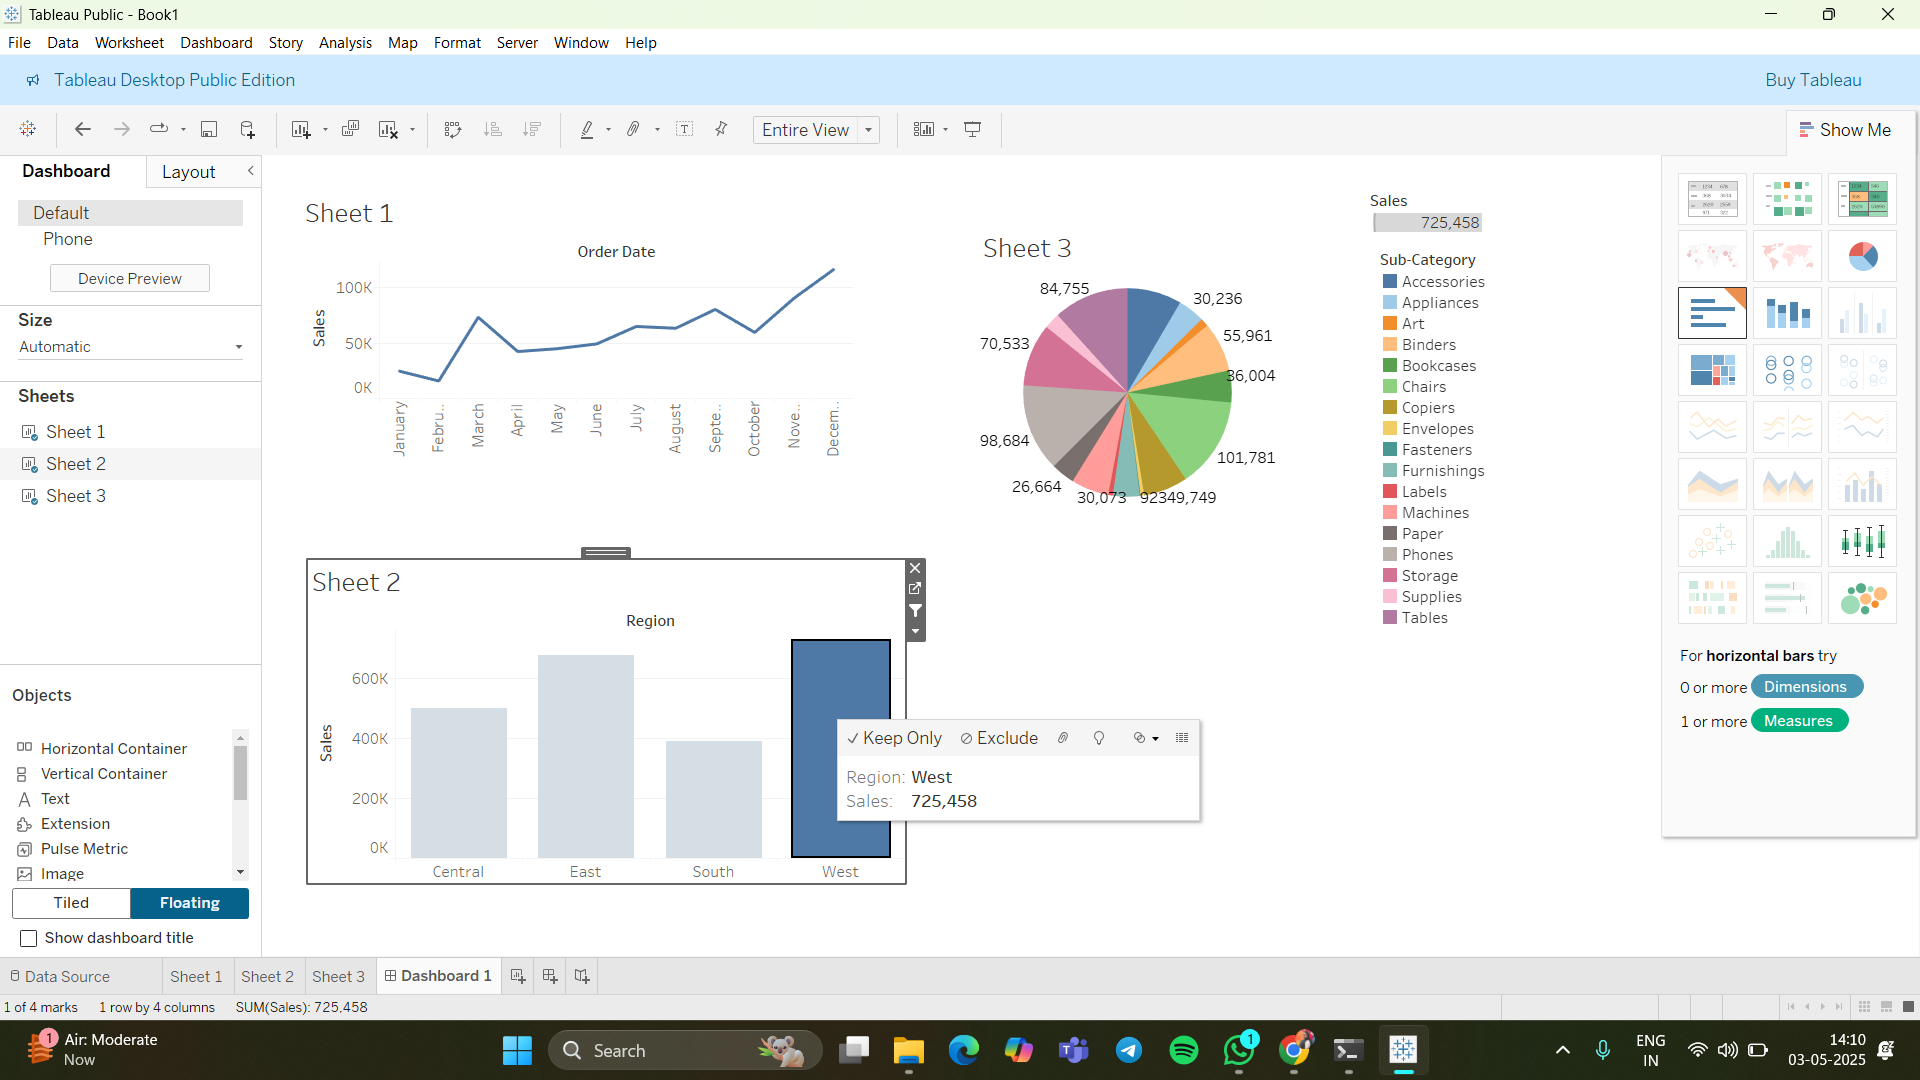

What the dashboard file says about the page in this screenshot:
{"tool":"tableau","page":{"name":"Dashboard 1","canvas":[1000,1000],"units":"permille","ordinal":0},"visuals":[{"type":"legend","title":"Sheet 3","param":"[federated.183qhyj1dasz6716432tl1qmbu8s].[sum:Sales:qk]","box":[668.7,43.7,68.8,63.7]},{"type":"worksheet","title":"Sheet 1","mark":"Automatic","rows":["Sales"],"cols":["Order Date"],"box":[23.5,44.9,333.1,333.3]},{"type":"worksheet","title":"Sheet 3","mark":"Pie","box":[432.7,88.6,304.8,402]},{"type":"legend","title":"Sheet 3","param":"[federated.183qhyj1dasz6716432tl1qmbu8s].[none:Sub-Category:nk]","box":[674.7,117.4,84.5,473.2]},{"type":"worksheet","title":"Sheet 2","mark":"Automatic","rows":["Sales"],"cols":["Region"],"box":[27.8,505.6,360.3,403.2]}]}

Visuals, with their boxes on the dashboard's canvas, which has no fixed pixel size, in thousandths of its width and height (x1, y1, x2, y2). These are canvas units, not pixel positions in the 1920x1080 screenshot, which may show the page scaled, cropped or inside an application window:
"Sheet 3" legend: bbox=[669, 44, 738, 107]
"Sheet 1" worksheet: bbox=[24, 45, 357, 378]
"Sheet 3" worksheet (Pie marks): bbox=[433, 89, 738, 491]
"Sheet 3" legend: bbox=[675, 117, 759, 591]
"Sheet 2" worksheet: bbox=[28, 506, 388, 909]
